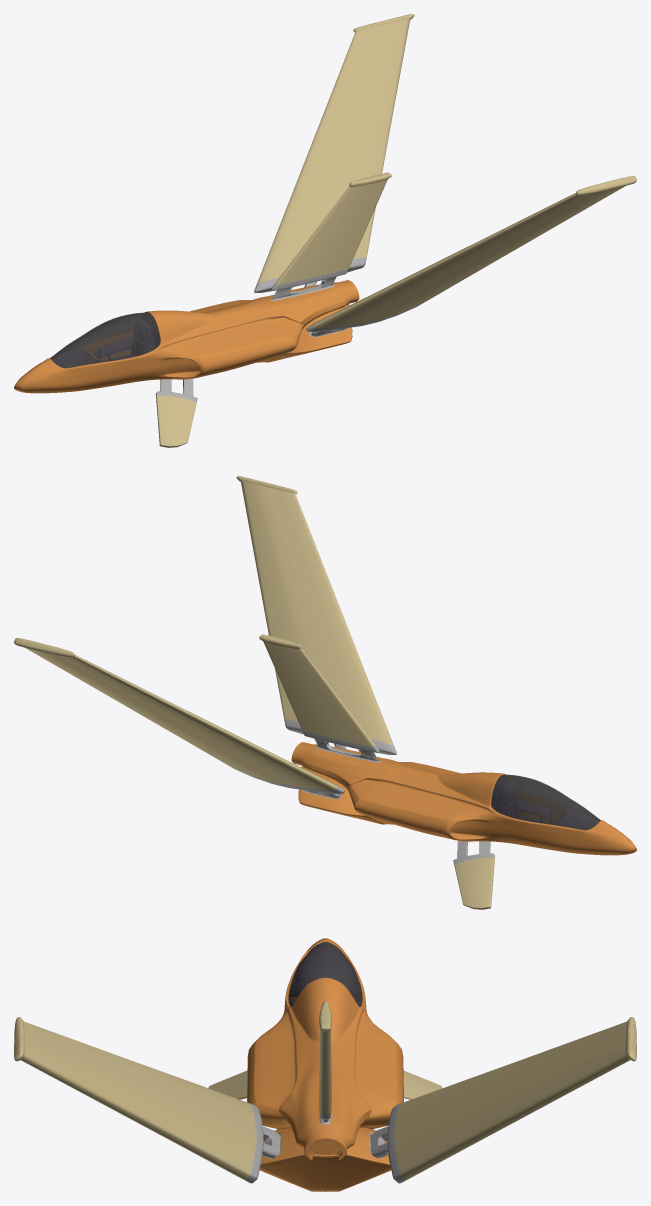
Rendered from Vespid Ship.fbx.
The picture shows the model from 3 angles, top to bottom: view 1: azimuth 30°, elevation 25°; view 2: azimuth 150°, elevation 25°; view 3: azimuth 270°, elevation 25°; orthographic projection. The views are drawn at different scales.
Visible parts, largest first — view 1: hull, R_Wing, L_Wing, C_Fin, windshield, L_small_wing, seat; view 2: hull, L_Wing, R_Wing, C_Fin, windshield, R_small_wing, seat; view 3: hull, R_Wing, L_Wing, windshield, dashboard, C_Fin, R_small_wing, L_small_wing.
Part boxes in pixels (left/top/right/bottom): hull: left=14, top=280, right=359, bottom=393; R_Wing: left=254, top=14, right=414, bottom=292; L_Wing: left=306, top=176, right=636, bottom=336; C_Fin: left=271, top=172, right=391, bottom=299; windshield: left=50, top=312, right=159, bottom=368; L_small_wing: left=156, top=378, right=197, bottom=447; seat: left=131, top=319, right=154, bottom=355; hull: left=291, top=742, right=636, bottom=855; L_Wing: left=236, top=476, right=396, bottom=754; R_Wing: left=14, top=638, right=344, bottom=798; C_Fin: left=259, top=634, right=379, bottom=761; windshield: left=491, top=774, right=600, bottom=830; R_small_wing: left=453, top=840, right=494, bottom=909; seat: left=497, top=781, right=519, bottom=817; hull: left=247, top=938, right=403, bottom=1191; R_Wing: left=370, top=1017, right=636, bottom=1183; L_Wing: left=14, top=1017, right=280, bottom=1183; windshield: left=288, top=942, right=362, bottom=1006; dashboard: left=290, top=943, right=360, bottom=995; C_Fin: left=319, top=1001, right=331, bottom=1122; R_small_wing: left=403, top=1070, right=442, bottom=1099; L_small_wing: left=208, top=1070, right=247, bottom=1099.
Size of the model in its own units: 5.1 by 2.15 by 3.9.
